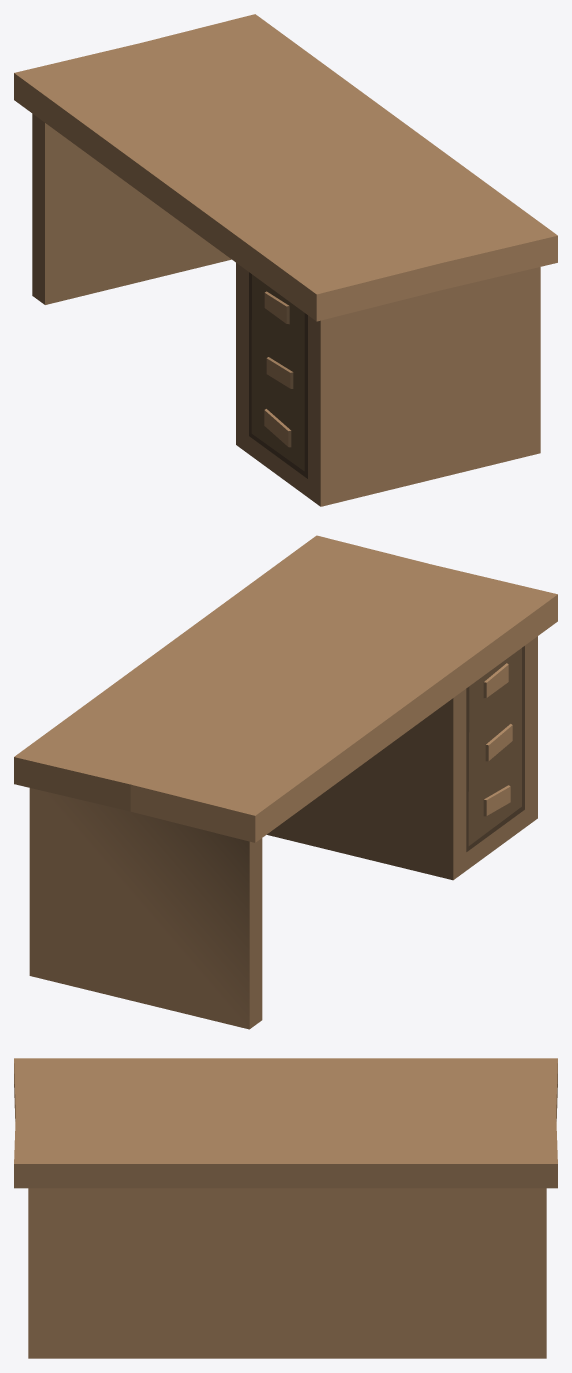
File: MSH_QuestObject_table_05.fbx
3 renders of one model, top to bottom at view 1: azimuth 30°, elevation 25°; view 2: azimuth 150°, elevation 25°; view 3: azimuth 270°, elevation 25°, orthographic. The views are drawn at different scales.
Parts seen in each view (by area): view 1: MSH_QuestObject_table_05; view 2: MSH_QuestObject_table_05; view 3: MSH_QuestObject_table_05.
Boxes of the visible parts, <box> form: MSH_QuestObject_table_05: <box>14,14,557,506</box>; MSH_QuestObject_table_05: <box>14,535,557,1029</box>; MSH_QuestObject_table_05: <box>14,1058,557,1358</box>.
Size of the model in its own units: 1.74 by 1.52 by 3.77.
